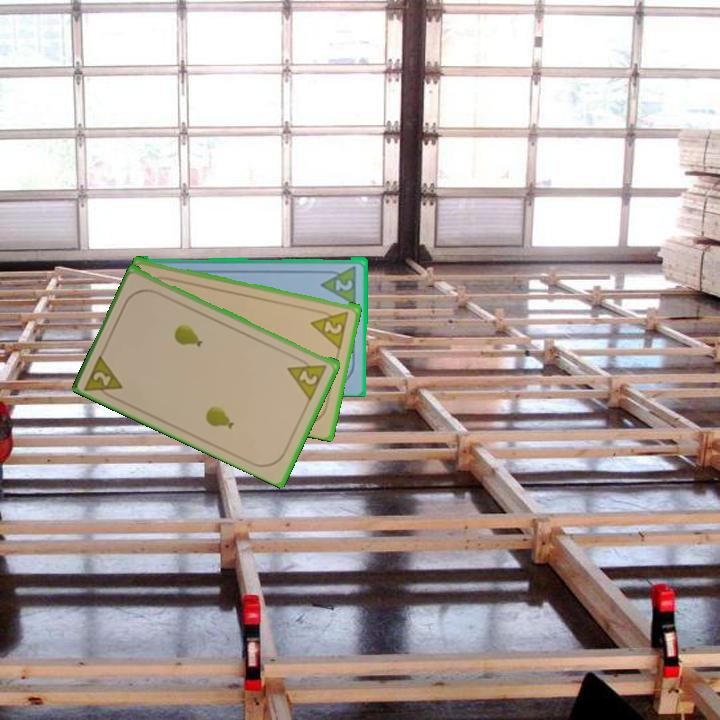2p: (81, 349, 126, 403), (284, 353, 330, 402), (308, 307, 352, 350), (332, 276, 356, 293)
